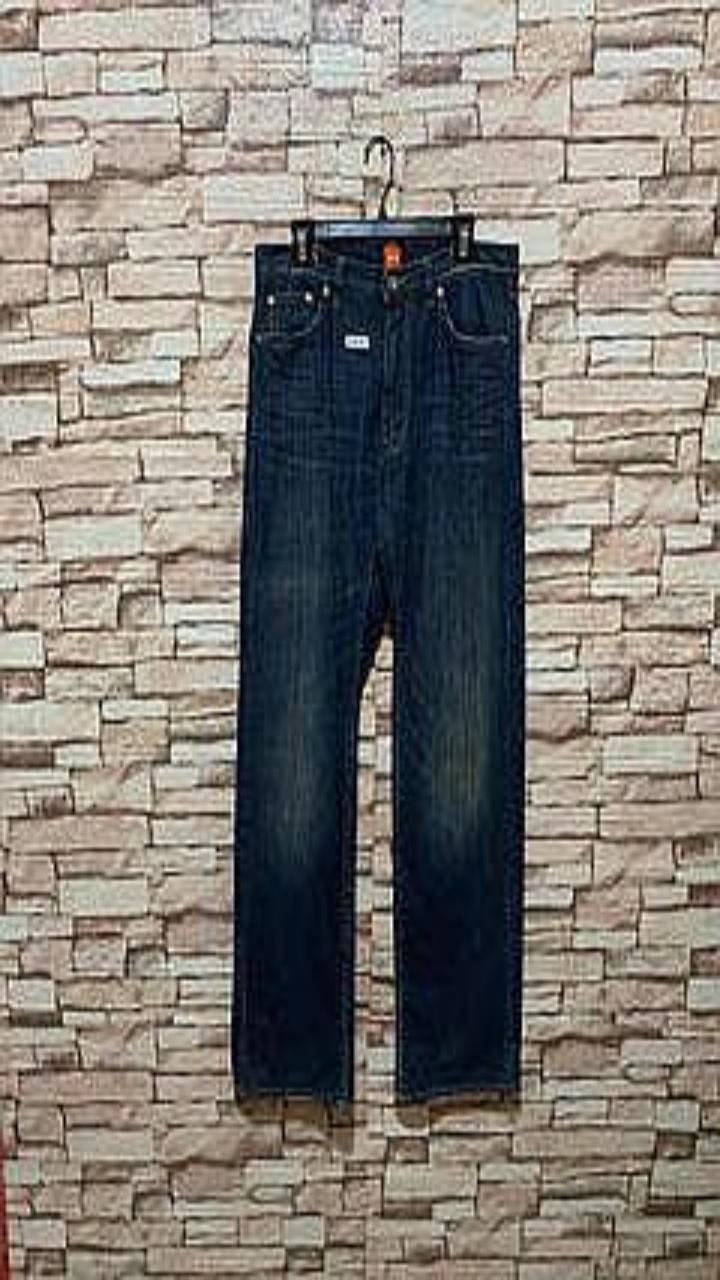Jeans: (231, 236, 524, 1100)
